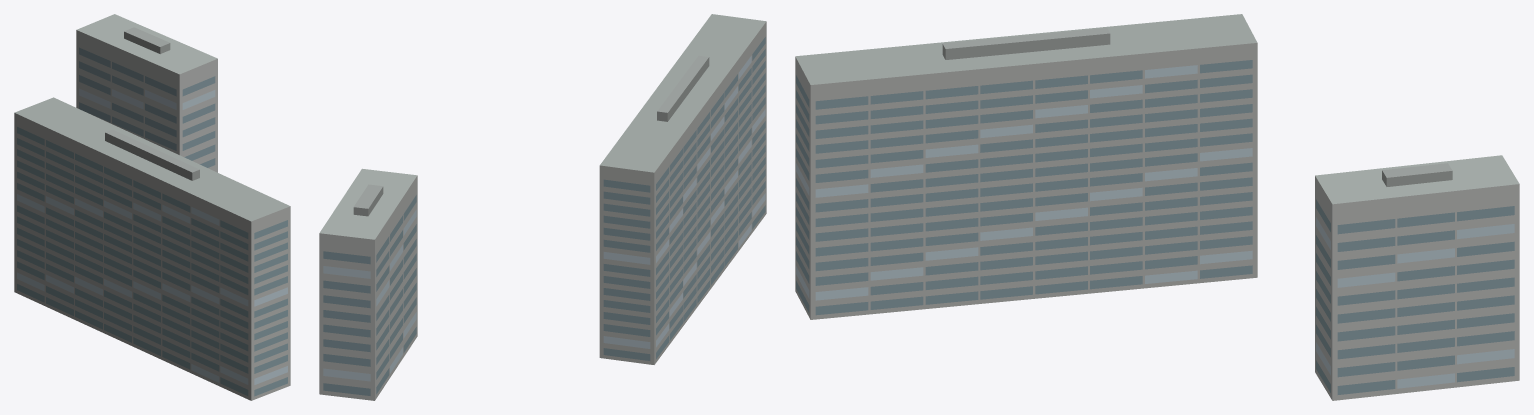
The model's file is apt-a13980801.glb.
3 views of the same model, side by side, from view 1: azimuth 30°, elevation 25°; view 2: azimuth 150°, elevation 25°; view 3: azimuth 270°, elevation 25° (orthographic). The views are drawn at different scales.
Parts seen in each view (by area): view 1: apt-a13980801; view 2: apt-a13980801; view 3: apt-a13980801.
Part boxes in pixels (x1=…): apt-a13980801: x1=14, y1=14, x2=290, y2=400; apt-a13980801: x1=319, y1=14, x2=766, y2=400; apt-a13980801: x1=795, y1=14, x2=1519, y2=400.
Bounding box in the file's own units: 57.02 × 43 × 115.
